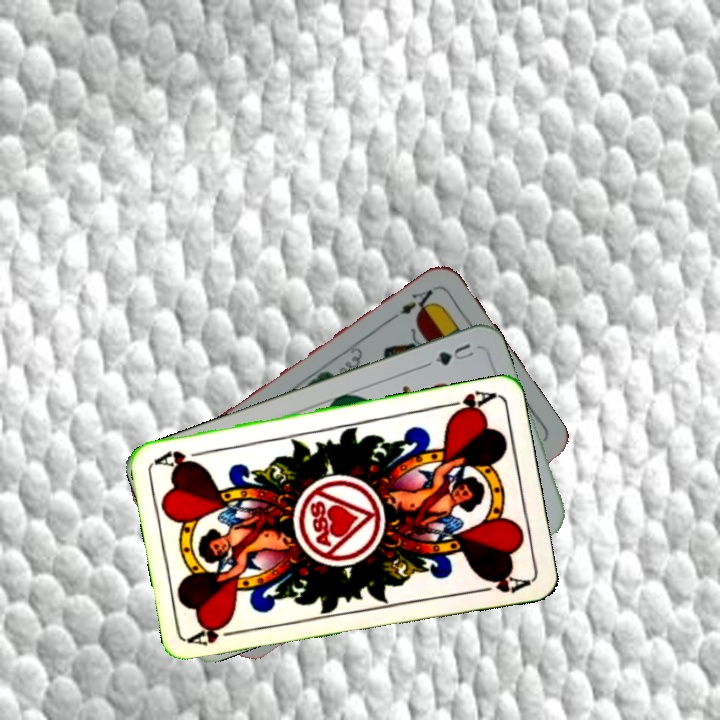EA: (396, 282, 440, 319)
GU: (431, 339, 477, 368)
HA: (439, 386, 498, 419), (186, 621, 246, 649)
